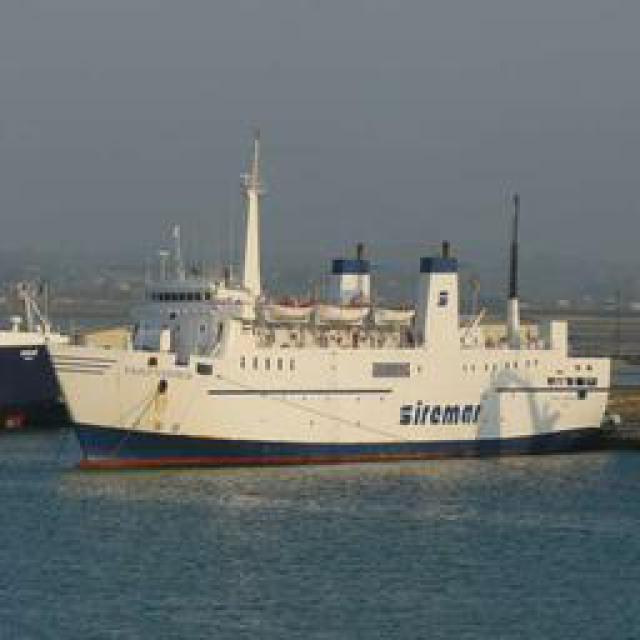Ship: (47, 139, 607, 464)
